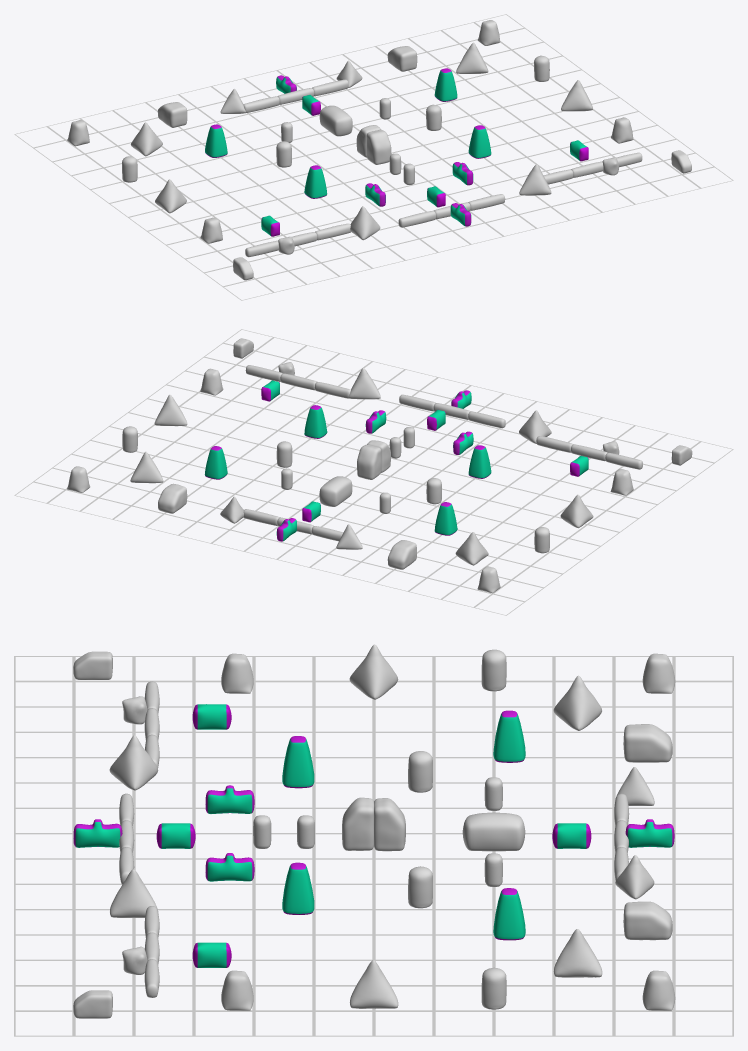
Rendered from reference.fbx.
3 renders of one model, top to bottom at view 1: azimuth 30°, elevation 25°; view 2: azimuth 150°, elevation 25°; view 3: azimuth 270°, elevation 25°, orthographic. The views are drawn at different scales.
Parts seen in each view (by area): view 1: Plane.001; view 2: Plane.001; view 3: Plane.001.
Part boxes in pixels (x1,y1,x2,y2): Plane.001: (14, 14, 733, 300); Plane.001: (14, 329, 733, 615); Plane.001: (14, 644, 733, 1036).
Bounding box in the file's own units: 4572 × 254 × 3658.
